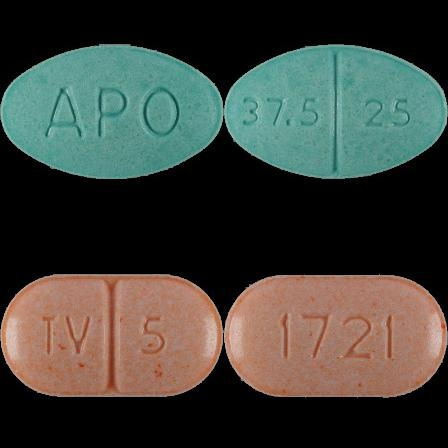61919-338: (0, 0, 224, 224)
